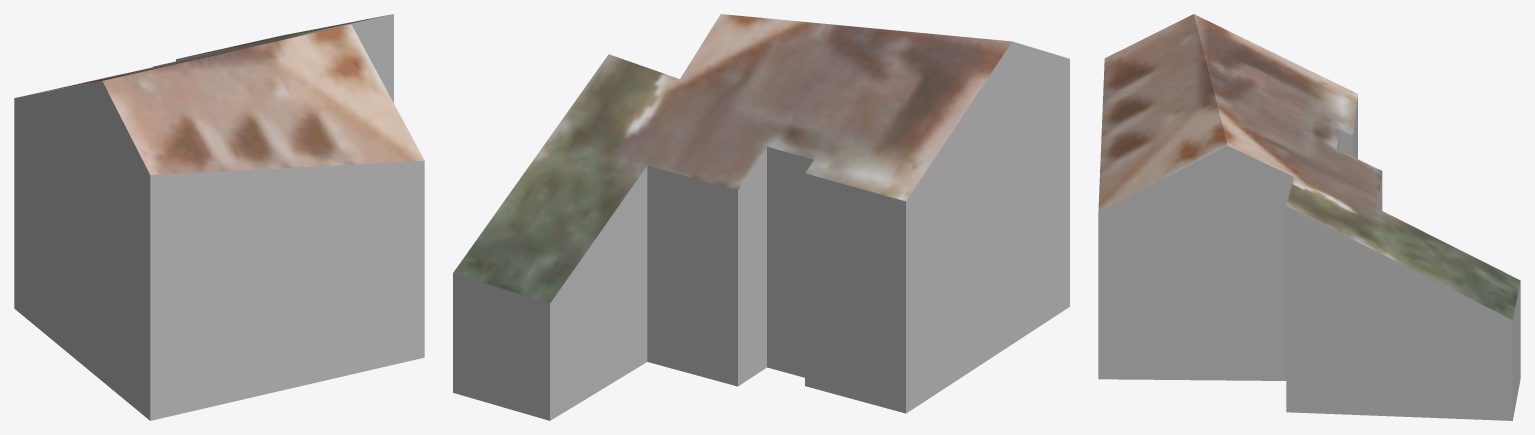
Rendered from DEBW_0010007Tx76.gltf.
3 views of the same model, side by side, from view 1: azimuth 30°, elevation 25°; view 2: azimuth 150°, elevation 25°; view 3: azimuth 270°, elevation 25° (orthographic). The views are drawn at different scales.
Parts seen in each view (by area): view 1: Z_UP; view 2: Z_UP; view 3: Z_UP.
Part boxes in pixels (x1,y1,x2,y2): Z_UP: [14, 14, 424, 420]; Z_UP: [453, 14, 1069, 420]; Z_UP: [1098, 14, 1520, 420].
Size of the model in its own units: 16.87 by 13.04 by 19.56.
2 materials, 1 textured.
